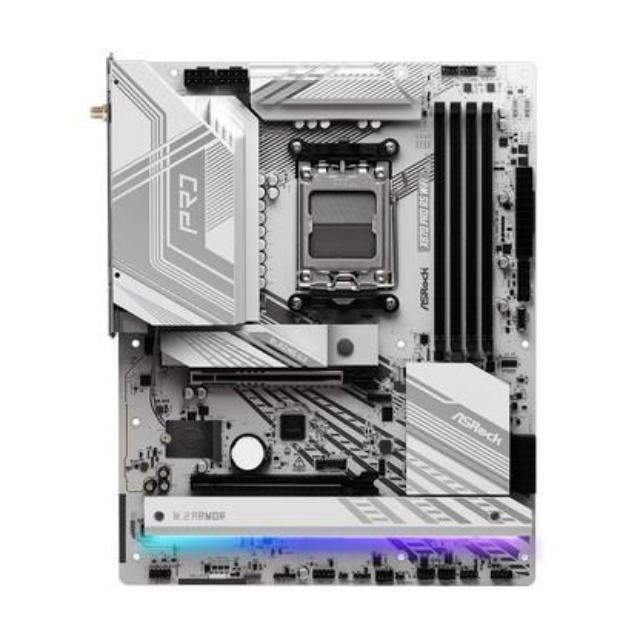Mainboard: (84, 44, 546, 598)
